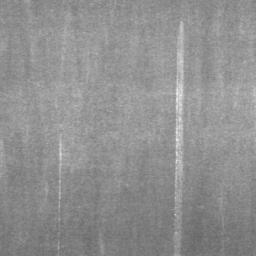Bright scratch: (174, 22, 184, 256), (58, 141, 61, 256)
